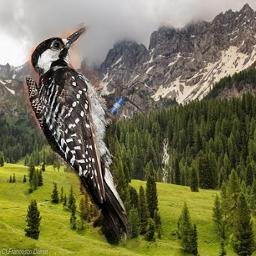Woodpecker: (15, 19, 163, 248)
